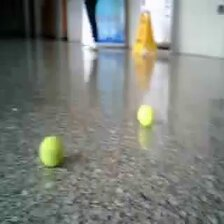tennis: (38, 136, 65, 167), (136, 104, 155, 125)
